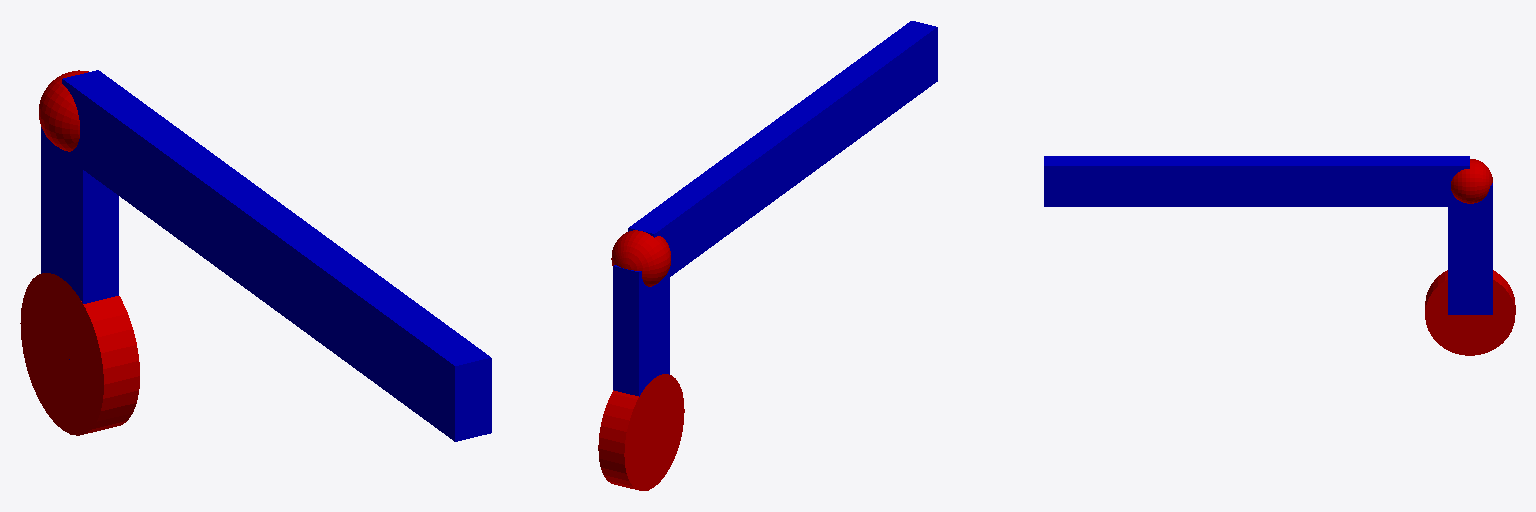
The robot description file, URDF, robot "TwoLinkStruct332026855":
<?xml version="1.0"?>
<robot  name="TwoLinkStruct332026855" >
 <material  name="blue" >
  <color  rgba="0 0 0.8 1.0" />
 </material>
 <material  name="red" >
  <color  rgba="0.8 0 0 1.0" />
 </material>
 <link  name="base_link" >
  <visual >
   <origin  rpy="0 1.5707 0"  xyz="0 0 0" />
   <material  name="red" />
   <geometry >
    <cylinder  length="0.05"  radius="0.1" />
   </geometry>
  </visual>
 </link>
 <joint  type="revolute"  name="joint1" >
  <parent  link="base_link" />
  <child  link="link1" />
  <origin  xyz="0 0 0"  rpy="0 0 0" />
  <axis  xyz="1 0 0" />
 </joint>
 <link  name="link1" >
  <inertial >
   <origin  rpy="0 0 0"  xyz="0 0 0.15689035771053386" />
   <mass  value="0.6176725934838471" />
   <inertia  ixy="0.0"  iyy="0.00025736358061826965"  izz="0.0051965998397701775"  ixz="0.0"  ixx="0.0051965998397701775"  iyz="0.0" />
  </inertial>
  <visual >
   <origin  rpy="0 0 0"  xyz="0 0 0.15689035771053386" />
   <material  name="blue" />
   <geometry >
    <box  size="0.05 0.1 0.3137807154210677" />
   </geometry>
  </visual>
 </link>
 <joint  type="fixed"  name="joint-joint-1" >
  <parent  link="link1" />
  <child  link="joint-link-1" />
  <origin  xyz="0 0 0.3137807154210677"  rpy="1.5707 0 0" />
  <axis  xyz="1 0 0" />
 </joint>
 <link  name="joint-link-1" >
  <inertial >
   <origin  rpy="0 0 0"  xyz="0 0 0" />
   <mass  value="2.6286928188502787" />
   <inertia  ixy="0"  iyy="0"  izz="0"  ixz="0"  ixx="0"  iyz="0" />
  </inertial>
  <visual >
   <origin  rpy="0 0 0"  xyz="0 0 0" />
   <material  name="red" />
   <geometry >
    <sphere  radius="0.05" />
   </geometry>
  </visual>
 </link>
 <joint  type="revolute"  name="joint2" >
  <parent  link="link1" />
  <child  link="link2" />
  <origin  xyz="0 0 0.3137807154210677"  rpy="1.5707 0 0" />
  <axis  xyz="1 0 0" />
 </joint>
 <link  name="link2" >
  <inertial >
   <origin  rpy="0 0 0"  xyz="0 0 0.47032716291979576" />
   <mass  value="3.285934792260269" />
   <inertia  ixy="0.0"  iyy="0.00025736358061826965"  izz="0.04567331405982112"  ixz="0.0"  ixx="0.04567331405982112"  iyz="0.0" />
  </inertial>
  <visual >
   <origin  rpy="0 0 0"  xyz="0 0 0.47032716291979576" />
   <material  name="blue" />
   <geometry >
    <box  size="0.05 0.1 0.9406543258395915" />
   </geometry>
  </visual>
 </link>
 <joint  type="fixed"  name="eef_joint" >
  <parent  link="link2" />
  <child  link="eef" />
  <origin  xyz="0 0 0.9406543258395915"  rpy="0 0 0" />
 </joint>
 <link  name="eef" >
  <inertial >
   <origin  rpy="0 0 0"  xyz="0 0 0" />
   <mass  value="1" />
   <inertia  ixy="0"  iyy="0"  izz="0"  ixz="0"  ixx="0"  iyz="0" />
  </inertial>
 </link>
 <transmission  name="motor1" >
  <type  xmltext="SimpleTransmission" >
   SimpleTransmission
  </type>
  <actuator  name="motor1" >
   <mechanicalreduction  xmltext="1" >
    1
   </mechanicalreduction>
  </actuator>
  <joint  name="joint1" />
 </transmission>
 <transmission  name="motor2" >
  <type  xmltext="SimpleTransmission" >
   SimpleTransmission
  </type>
  <actuator  name="motor2" >
   <mechanicalreduction  xmltext="1" >
    1
   </mechanicalreduction>
  </actuator>
  <joint  name="joint2" />
 </transmission>
</robot>

<!-- {'carti': array([-0.1 ,  0.14,  0.85]), 'cartd': array([-0.1 ,  0.32,  1.29]), 'tau_mu': 0.9788797178244517, 'b0': 0.022948878888816214, 'Km': 2.4724254215748656, 'k_velocity': 42.98055219417782, 'tau_max_m': 4.430284273200122, 'omega_max_m': 1452.2608087919612, 'gear_ratio': 18.04490190142173, 'Kp': 6.666144332603223, 'Kd': 57.890260029910436, 'm_m': 2.6286928188502787, 'l1': 0.3137807154210677, 'l2': 0.9406543258395915, 'k1': 13243.003616006596, 'k2': 292813312.11882055, 'k3': 286482548.07326615}-->

--- What the picture shows (computed from the rendered views, not written in the file) ---
Views: 3 orthographic renders of the robot side by side, from view 1: azimuth 30°, elevation 25°; view 2: azimuth 150°, elevation 25°; view 3: azimuth 270°, elevation 25°.
Model TwoLinkStruct332026855 with 5 links and 4 joints (2 revolute, 2 fixed), rooted at base_link, posed all joints at 0.
Visible links, largest first — view 1: link2, base_link, link1, joint-link-1; view 2: link2, base_link, link1, joint-link-1; view 3: link2, link1, base_link, joint-link-1.
Link boxes in pixels (x1=…): link2: x1=62, y1=70, x2=491, y2=441; base_link: x1=20, y1=273, x2=139, y2=435; link1: x1=41, y1=127, x2=118, y2=359; joint-link-1: x1=39, y1=70, x2=88, y2=151; link2: x1=628, y1=21, x2=937, y2=284; base_link: x1=598, y1=374, x2=684, y2=490; link1: x1=613, y1=265, x2=669, y2=396; joint-link-1: x1=611, y1=230, x2=670, y2=286; link2: x1=1044, y1=156, x2=1469, y2=206; link1: x1=1448, y1=183, x2=1492, y2=314; base_link: x1=1425, y1=270, x2=1515, y2=355; joint-link-1: x1=1451, y1=159, x2=1492, y2=203.
Size in the robot's own frame: 0.1 by 1.04 by 0.4639 metres.
Geometry: primitives only (box / cylinder / sphere), no mesh files.
